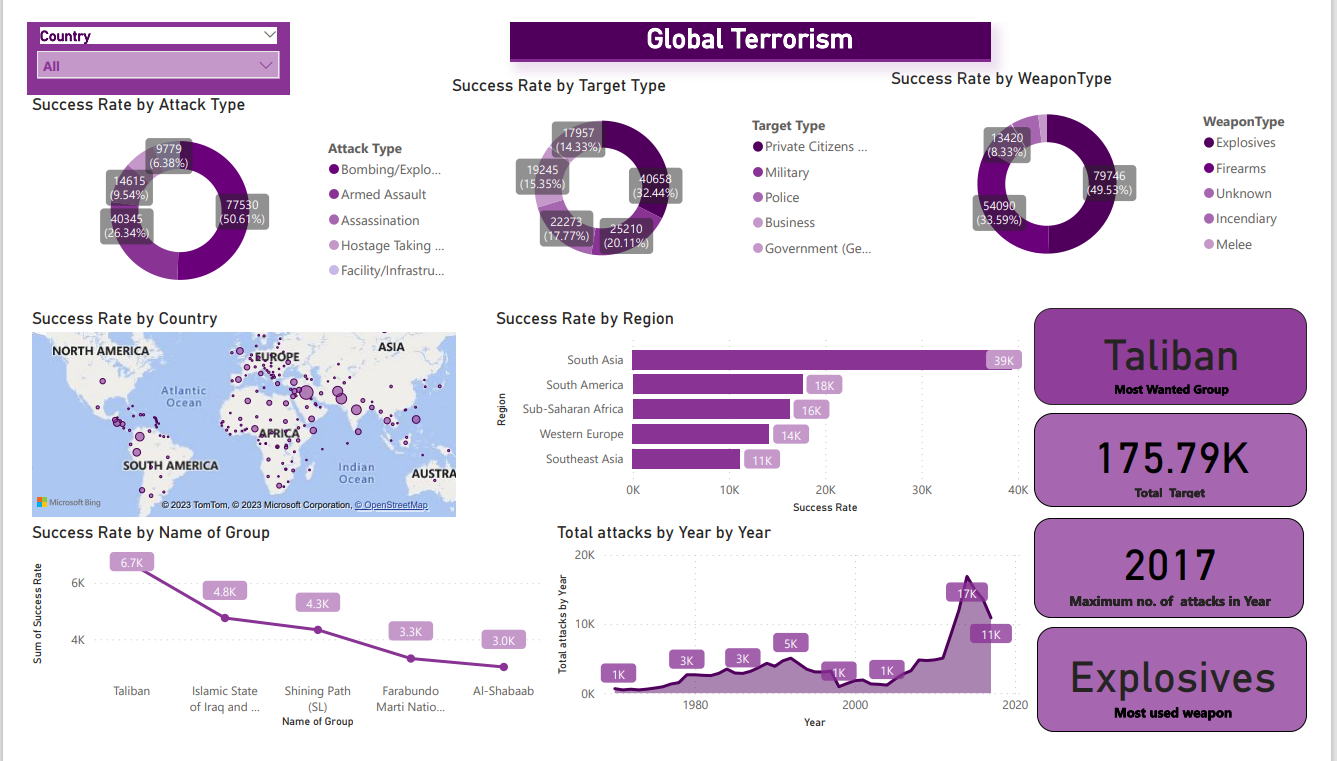

What the dashboard file says about the page in this screenshot:
{"tool":"powerbi","page":{"name":"Page 1","canvas":[1280,720],"ordinal":0},"visuals":[{"type":"donutChart","fields":{"Category":["Global Terrorism .Attack Type"],"Y":["Sum(Global Terrorism .Success Rate)"]},"box":[0,72.4,433.3,213.6],"z":0},{"type":"donutChart","fields":{"Category":["Global Terrorism .Target Type"],"Y":["Sum(Global Terrorism .Success Rate)"]},"box":[420,36.2,439.3,214.8],"z":1000},{"type":"donutChart","fields":{"Y":["Sum(Global Terrorism .Success Rate)"],"Category":["Global Terrorism .WeaponType"]},"box":[859.3,45.9,421.2,213.6],"z":2000},{"type":"map","fields":{"Category":["Global Terrorism .Country"],"Size":["Sum(Global Terrorism .Success Rate)"]},"box":[0,286.1,433.3,213.9],"z":3000},{"type":"barChart","fields":{"Category":["Global Terrorism .Region"],"Y":["Sum(Global Terrorism .Success Rate)"]},"box":[463.9,286.1,541.7,209.7],"z":4000},{"type":"lineChart","title":"Success Rate by Name of Group","fields":{"Y":["Sum(Global Terrorism .Success Rate)"],"Category":["Global Terrorism .Name of Group"]},"box":[0,500.2,525.4,209.7],"z":5000},{"type":"areaChart","fields":{"Category":["Global Terrorism .Year"],"Y":["CountNonNull(Global Terrorism .Year)"]},"box":[525,500,480.6,211.1],"z":6000},{"type":"slicer","fields":{"Values":["Global Terrorism .Country"]},"box":[0,0,262.5,72.2],"z":7000},{"type":"card","fields":{"Values":["Min(Global Terrorism .Name of Group)"]},"box":[1006.7,286.3,273.7,96.5],"z":8000},{"type":"card","fields":{"Values":["CountNonNull(Global Terrorism .Target Type)"]},"box":[1006.5,391,274,94.1],"z":9000},{"type":"card","fields":{"Values":["Max(Global Terrorism .Year)"]},"box":[1006.7,496,270.6,99.6],"z":10000},{"type":"card","fields":{"Values":["Min(Global Terrorism .WeaponType)"]},"box":[1009.9,605.1,270.6,104.9],"z":11000}]}

Visuals, with their boxes in screenshot pixels (x1, y1, x2, y2), scaled from the page's 1280x720 canvas onto the 1337x761 screenshot:
donutChart - Global Terrorism .Attack Type x Sum(Global Terrorism .Success Rate): 0/77/453/302
donutChart - Global Terrorism .Target Type x Sum(Global Terrorism .Success Rate): 439/38/898/265
donutChart - Sum(Global Terrorism .Success Rate) x Global Terrorism .WeaponType: 898/49/1336/274
map - Global Terrorism .Country x Sum(Global Terrorism .Success Rate): 0/302/453/528
barChart - Global Terrorism .Region x Sum(Global Terrorism .Success Rate): 485/302/1050/524
"Success Rate by Name of Group" lineChart: 0/529/549/750
areaChart - Global Terrorism .Year x CountNonNull(Global Terrorism .Year): 548/528/1050/752
slicer - Global Terrorism .Country: 0/0/274/76
card - Min(Global Terrorism .Name of Group): 1052/303/1336/405
card - CountNonNull(Global Terrorism .Target Type): 1051/413/1336/513
card - Max(Global Terrorism .Year): 1052/524/1334/630
card - Min(Global Terrorism .WeaponType): 1055/640/1336/750
